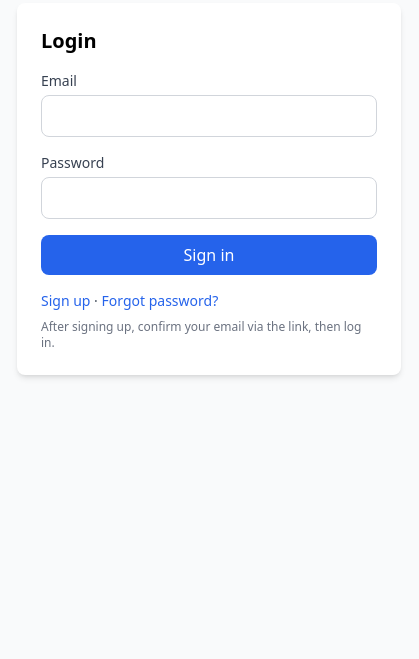
Auth pages › login shows auth error
The width and height of the screenshot is (419, 659).
Type "user@example.com" into the field labelled "Email" at (209, 116), box x1=41 y1=95 x2=377 y2=137
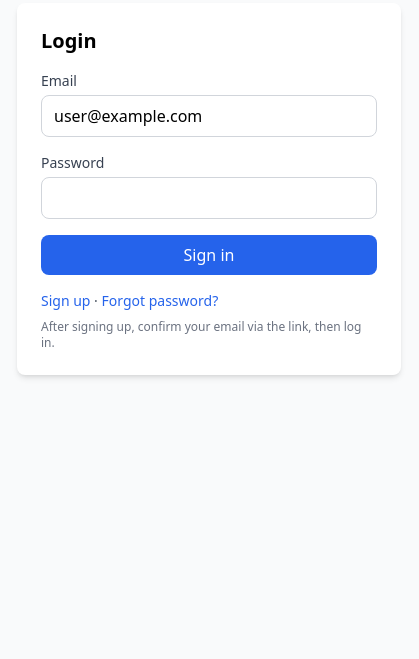
Type "wrong" into the password field labelled "Password" at (209, 198), box x1=41 y1=177 x2=377 y2=219
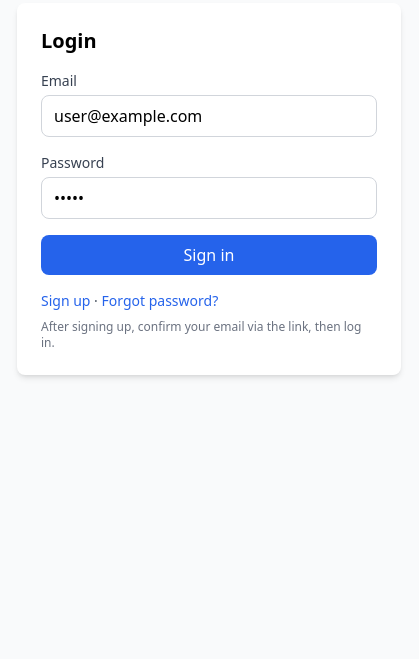
Click the button "Sign in" at (209, 255), box x1=41 y1=235 x2=377 y2=275
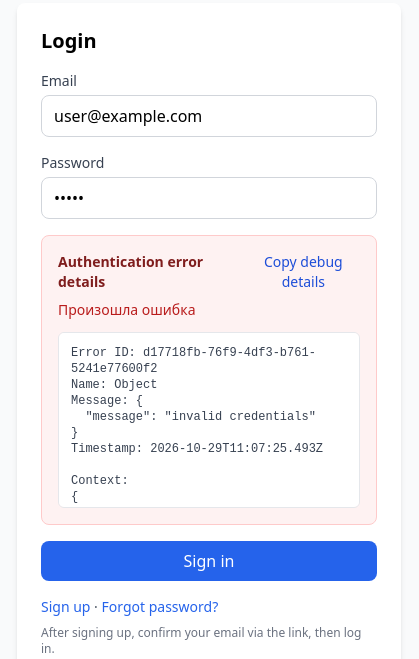
Expected: the text "Произошла ошибка" is shown, x1=58 y1=300 x2=196 y2=319
Expected: the text "invalid credentials" is shown, x1=71 y1=346 x2=323 y2=552
